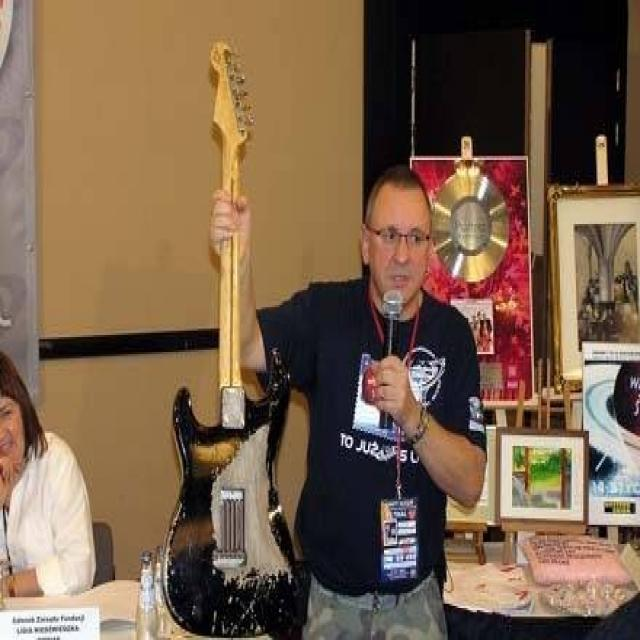guitar: (164, 40, 311, 638)
